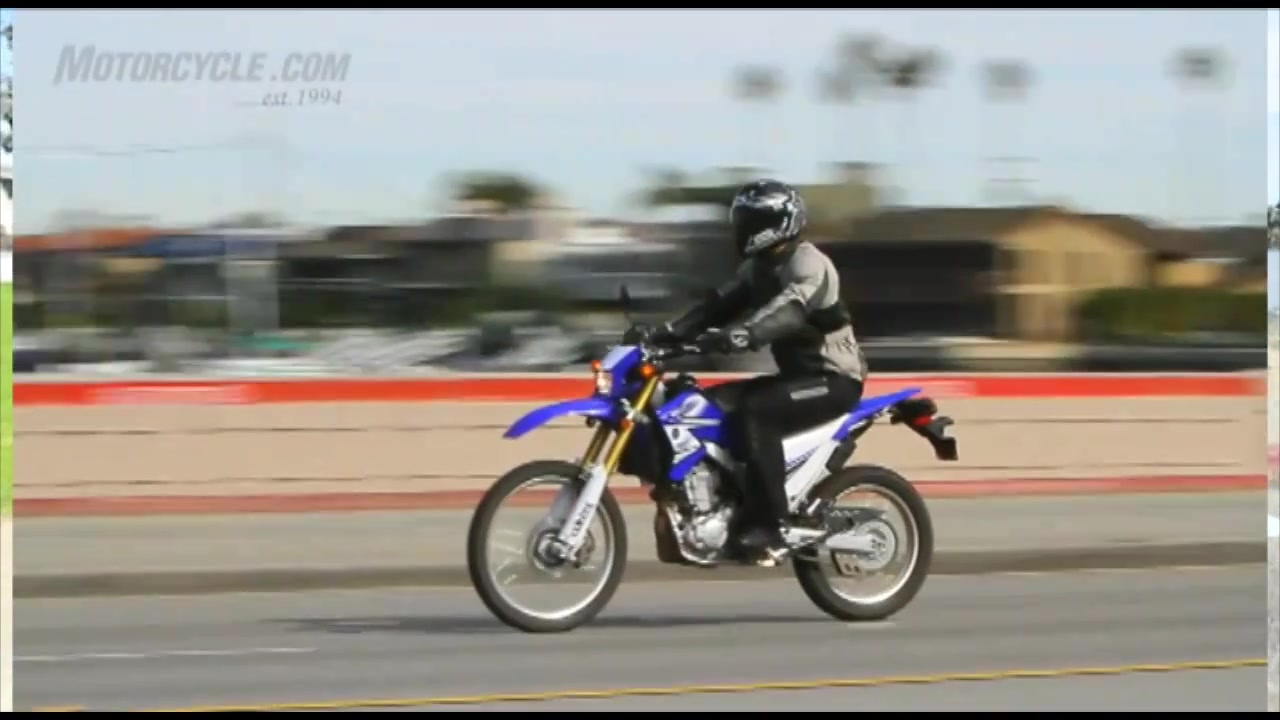motorbike: (464, 283, 960, 638)
